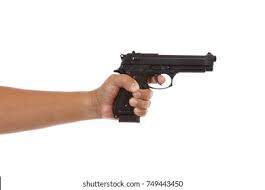gun: (109, 50, 217, 123)
